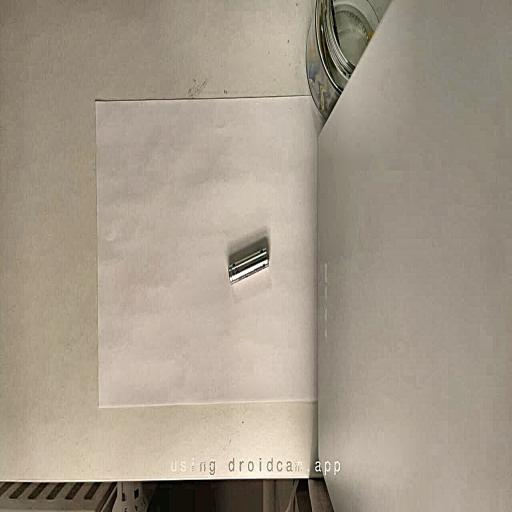RainbowAA: (228, 248, 269, 283)
